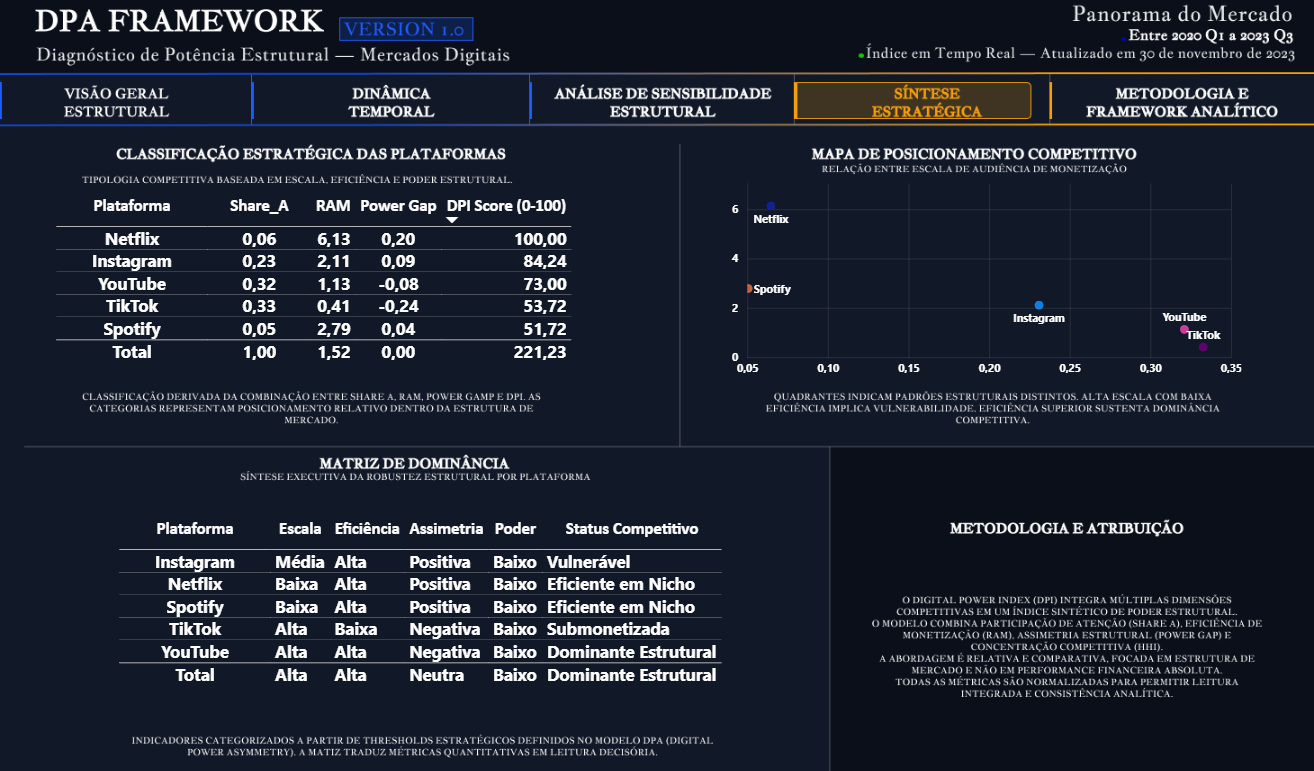

Layout of this report page (visuals, bound fields, positions):
{"tool":"powerbi","page":{"name":"SÍNTESE ESTRATÉGICA","canvas":[1460,859],"ordinal":3},"visuals":[{"type":"tableEx","fields":{"Values":["DIM_PLATAFORMA.Plataforma","FATO_USUARIOS_TRIMESTRAL.Share_A","FATO_USUARIOS_TRIMESTRAL.RAM","FATO_USUARIOS_TRIMESTRAL.Power Gap","FATO_USUARIOS_TRIMESTRAL.DPI Score (0-100)"]},"box":[57.1,211.4,590,220],"z":0},{"type":"scatterChart","fields":{"X":["FATO_USUARIOS_TRIMESTRAL.Share_A"],"Y":["FATO_USUARIOS_TRIMESTRAL.RAM"],"Series":["DIM_PLATAFORMA.Plataforma"]},"box":[802.9,191.4,581.4,235.7],"z":1000},{"type":"tableEx","fields":{"Values":["DIM_PLATAFORMA.Plataforma","FATO_USUARIOS_TRIMESTRAL.Escala","FATO_USUARIOS_TRIMESTRAL.Eficiência","FATO_USUARIOS_TRIMESTRAL.Assimetria","FATO_USUARIOS_TRIMESTRAL.Poder","FATO_USUARIOS_TRIMESTRAL.Status Competitivo"]},"box":[127.1,570,697.1,202.9],"z":1001}]}

Visuals, with their boxes in screenshot pixels (x1, y1, x2, y2), scaled from the page's 1460x859 canvas onto the 1314x771 screenshot:
tableEx - DIM_PLATAFORMA.Plataforma x FATO_USUARIOS_TRIMESTRAL.Share_A: l=51, t=190, r=582, b=387
scatterChart - FATO_USUARIOS_TRIMESTRAL.Share_A x FATO_USUARIOS_TRIMESTRAL.RAM: l=723, t=172, r=1246, b=383
tableEx - DIM_PLATAFORMA.Plataforma x FATO_USUARIOS_TRIMESTRAL.Escala: l=114, t=512, r=742, b=694
